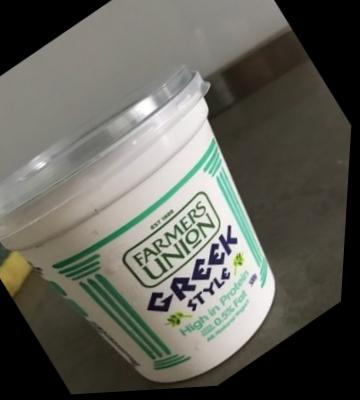plastic: (17, 33, 357, 398)
